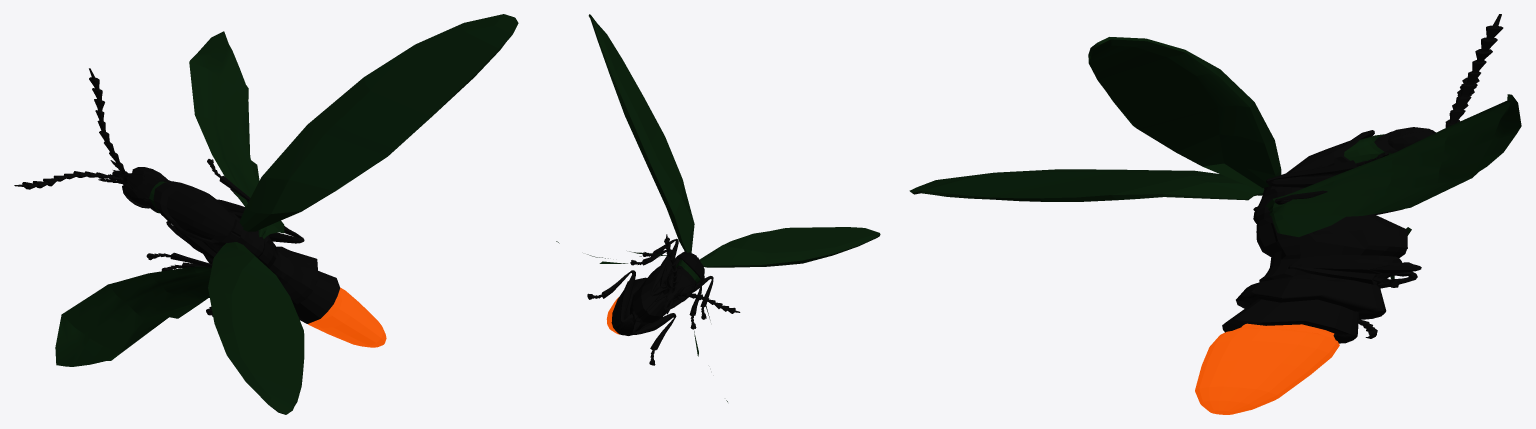
File: Firefly_5-transformed.glb
The picture shows the model from 3 angles, left to right: view 1: azimuth 30°, elevation 25°; view 2: azimuth 150°, elevation 25°; view 3: azimuth 270°, elevation 25°; orthographic projection. The views are drawn at different scales.
Parts seen in each view (by area): view 1: firefly.023, firefly.020, firefly.021, firefly.022, firefly.024; view 2: firefly.020, firefly.023, firefly.021; view 3: firefly.020, firefly.023, firefly.024, firefly.021.
Boxes of the visible parts, box(x1,y1,x2,y2) form: firefly.023: box(239, 14, 518, 231); firefly.020: box(14, 68, 386, 347); firefly.021: box(208, 242, 304, 414); firefly.022: box(55, 266, 211, 366); firefly.024: box(189, 31, 284, 238); firefly.020: box(587, 234, 740, 365); firefly.023: box(588, 14, 694, 252); firefly.021: box(699, 227, 880, 267); firefly.020: box(1195, 14, 1503, 414); firefly.023: box(1088, 37, 1281, 190); firefly.024: box(1265, 94, 1521, 237); firefly.021: box(909, 169, 1264, 201).
Size of the model in its own units: 0.0986 by 0.0969 by 0.1205.
